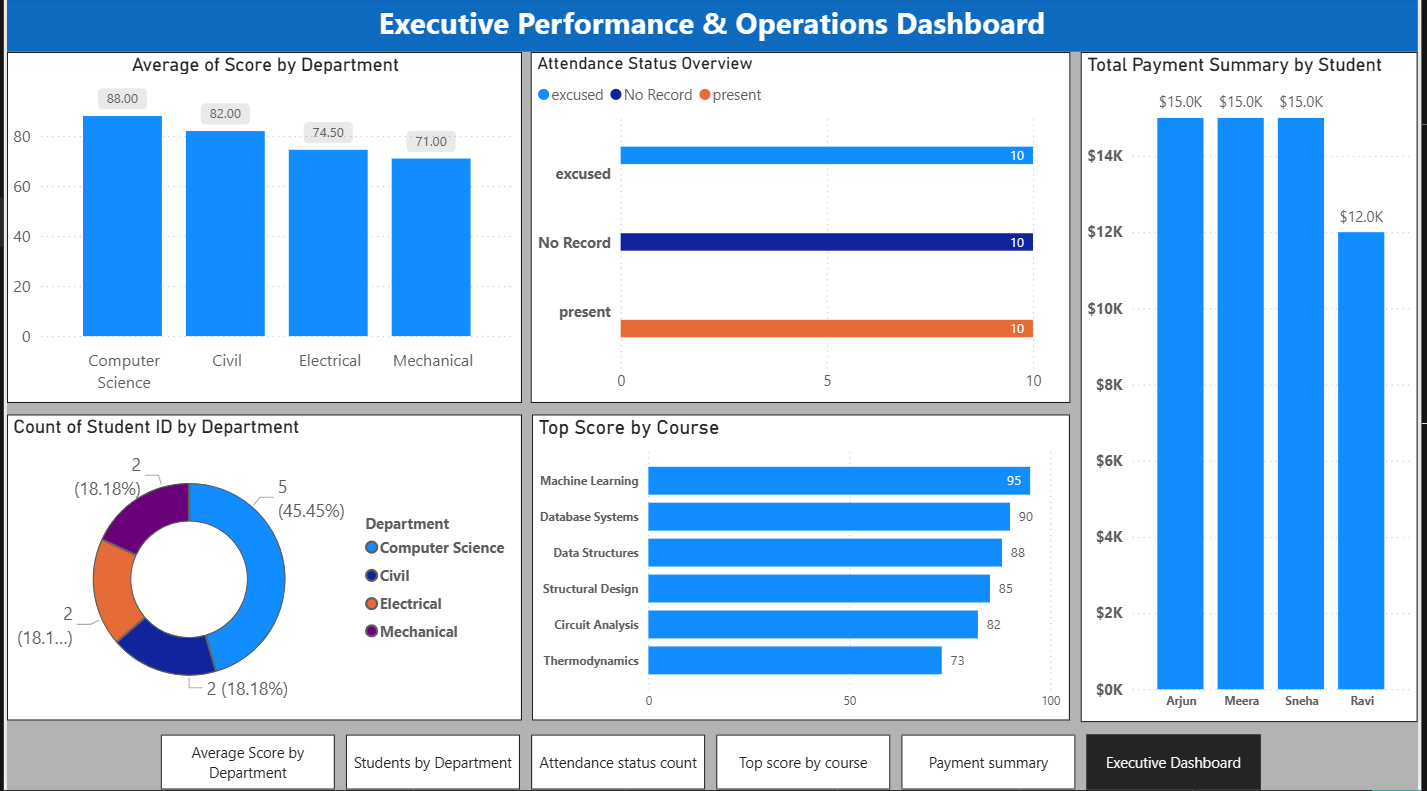

The page's visual inventory and layout, read from the dashboard file:
{"tool":"powerbi","page":{"name":"Executive Dashboard","canvas":[1280,720],"ordinal":5},"visuals":[{"type":"shape","box":[0,8,1279.6,41.4],"z":0},{"type":"textbox","box":[0,0,1279.6,49.4],"z":1000},{"type":"clusteredColumnChart","fields":{"Category":["Courses.Department"],"Y":["Avg(Exams.Score)"]},"box":[0,49.4,467.5,318.2],"z":2000},{"type":"donutChart","fields":{"Category":["Courses.Department"],"Y":["CountNonNull(Enrollments.Student ID)"]},"box":[0,378.8,467.3,277.9],"z":3000},{"type":"clusteredBarChart","title":"Attendance Status Overview","fields":{"Category":["Analysis Data.Attendance Status"],"Series":["Analysis Data.Attendance Status"],"Y":["CountNonNull(Students.Student ID)"]},"box":[475.2,49.9,490,318.7],"z":4000},{"type":"clusteredBarChart","title":"Top Score by Course","fields":{"Category":["Courses.Course Name "],"Y":["Max(Exams.Score)"]},"box":[476.7,379.1,488.2,278],"z":5000},{"type":"clusteredColumnChart","title":"Total Payment Summary by Student","fields":{"Category":["Students.Student Name"],"Y":["Sum(Payments.Amount Paid)"]},"box":[974.1,49.4,305.6,607.7],"z":6000},{"type":"pageNavigator","box":[139,669.7,1000.5,50.5],"z":7000}]}

Visuals, with their boxes in screenshot pixels (x1, y1, x2, y2), scaled from the page's 1280x720 canvas onto the 1427x791 screenshot:
shape: <region>0, 9, 1426, 54</region>
textbox: <region>0, 0, 1426, 54</region>
clusteredColumnChart - Courses.Department x Avg(Exams.Score): <region>0, 54, 521, 404</region>
donutChart - Courses.Department x CountNonNull(Enrollments.Student ID): <region>0, 416, 521, 721</region>
"Attendance Status Overview" clusteredBarChart: <region>530, 55, 1076, 405</region>
"Top Score by Course" clusteredBarChart: <region>531, 416, 1076, 722</region>
"Total Payment Summary by Student" clusteredColumnChart: <region>1086, 54, 1426, 722</region>
pageNavigator: <region>155, 736, 1270, 790</region>
